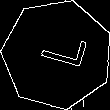L_W: (28, 32, 86, 76)
